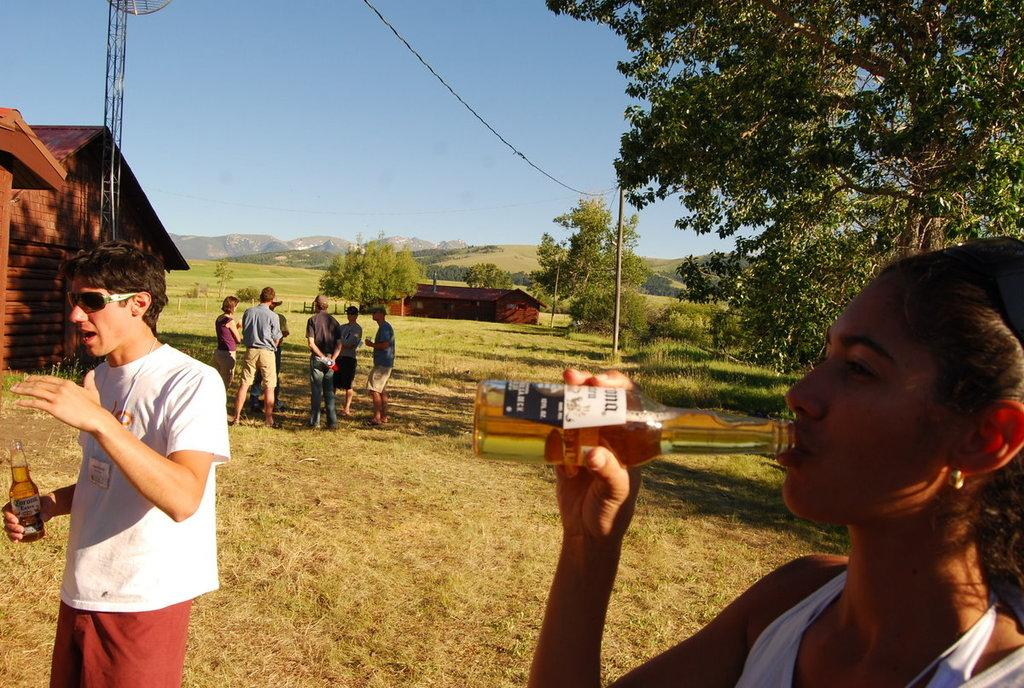Sem Máscara: (769, 283, 949, 526), (65, 275, 130, 357)
